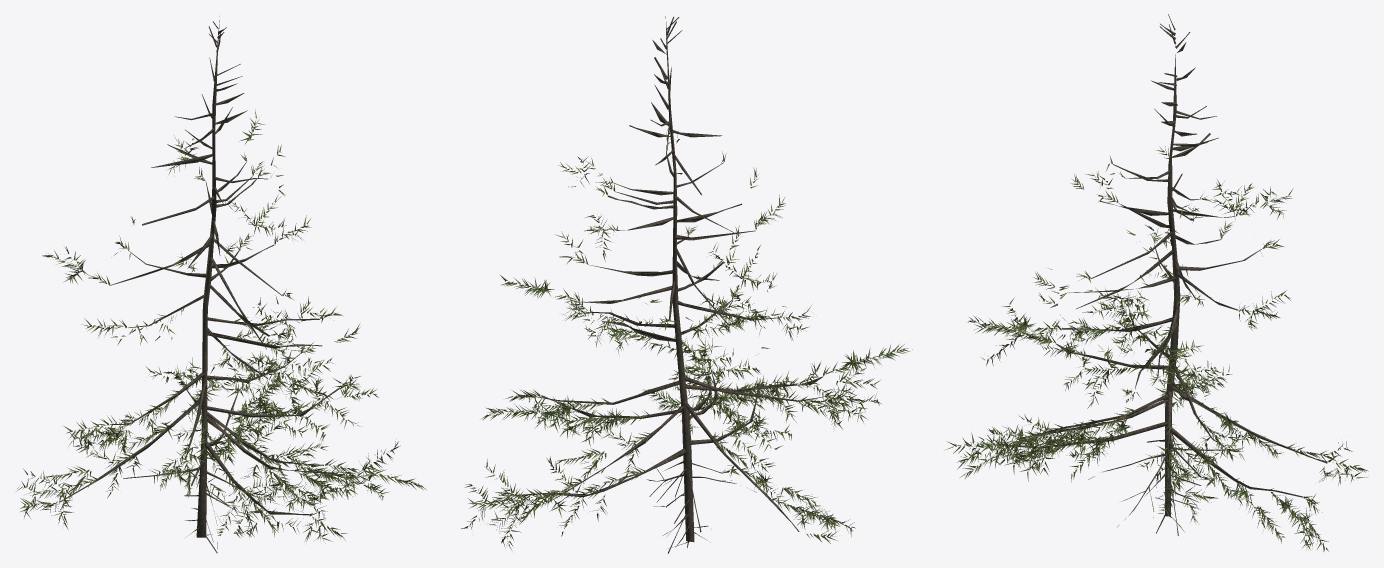
Rendered from fir_medium_c_lod1.gltf.
3 renders of one model, left to right at view 1: azimuth 30°, elevation 25°; view 2: azimuth 150°, elevation 25°; view 3: azimuth 270°, elevation 25°, orthographic. The views are drawn at different scales.
Parts seen in each view (by area): view 1: fir_sapling_medium_c_LOD0.002, fir_sapling_medium_c_LOD0.001, fir_sapling_medium_c_LOD0; view 2: fir_sapling_medium_c_LOD0.002, fir_sapling_medium_c_LOD0.001, fir_sapling_medium_c_LOD0; view 3: fir_sapling_medium_c_LOD0.002, fir_sapling_medium_c_LOD0.001, fir_sapling_medium_c_LOD0.
Boxes of the visible parts, <box> form: fir_sapling_medium_c_LOD0.002: <box>16,110,426,543</box>; fir_sapling_medium_c_LOD0.001: <box>60,16,339,537</box>; fir_sapling_medium_c_LOD0: <box>123,457,303,553</box>; fir_sapling_medium_c_LOD0.002: <box>461,129,912,549</box>; fir_sapling_medium_c_LOD0.001: <box>515,16,824,542</box>; fir_sapling_medium_c_LOD0: <box>646,461,756,553</box>; fir_sapling_medium_c_LOD0.002: <box>944,146,1368,551</box>; fir_sapling_medium_c_LOD0.001: <box>996,14,1327,516</box>; fir_sapling_medium_c_LOD0: <box>1088,439,1233,535</box>.
Bounding box in the file's own units: 3.8 × 5.28 × 3.91.
3 materials, 3 textured.
